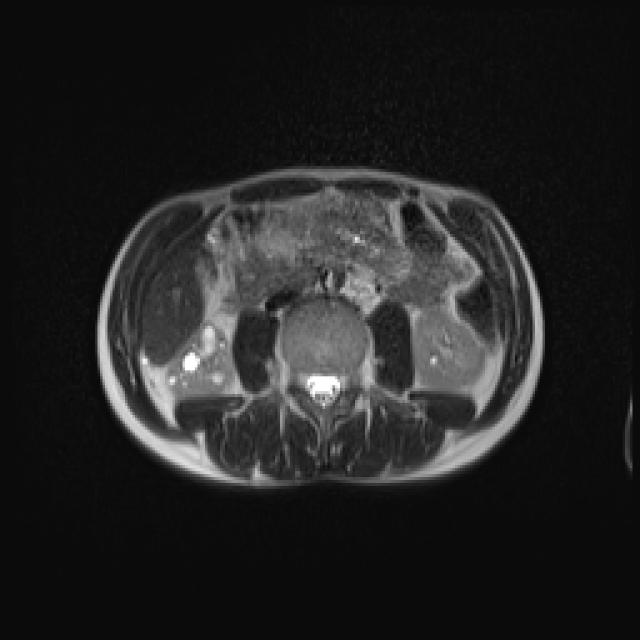sag: (165, 319, 232, 398)
sol: (414, 306, 486, 391)
